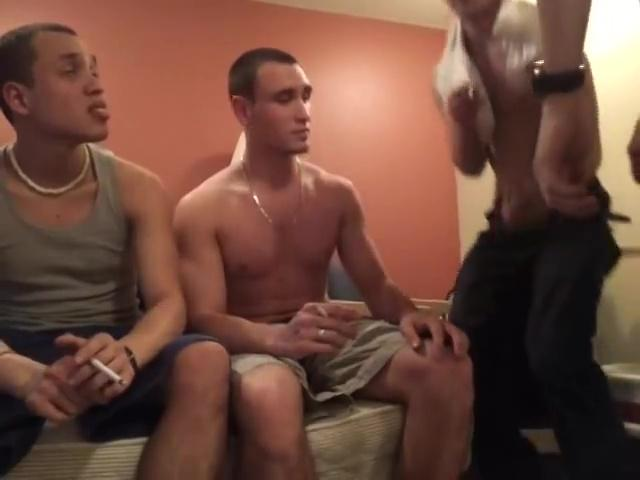cigarette: (90, 355, 128, 388)
